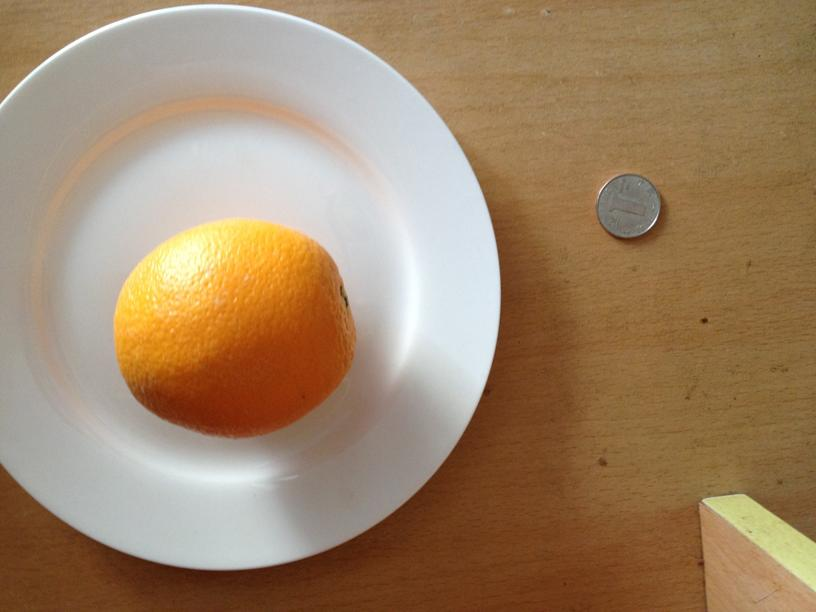coin: (595, 171, 662, 239)
orange: (114, 220, 351, 435)
